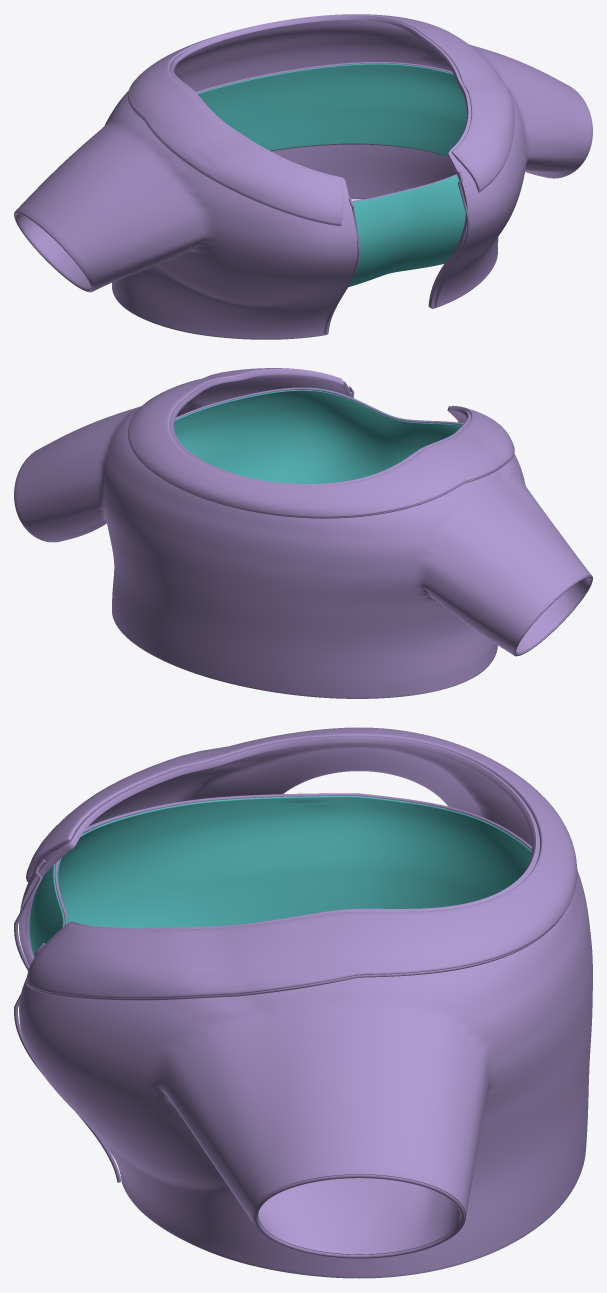
The model's file is Feminine-open-top.glb.
The picture shows the model from 3 angles, top to bottom: view 1: azimuth 30°, elevation 25°; view 2: azimuth 150°, elevation 25°; view 3: azimuth 270°, elevation 25°; orthographic projection. The views are drawn at different scales.
Visible parts, largest first — view 1: Clothing / open, Clothing / Bandeau underlayer, Open shirt / continuous falling collar, Bandeau underlayer / bound edge.001 export, Sleeve / soft cuff -1 export, Open shirt / placket 1 export, Collar / folded edge export, Open shirt / placket -1 export; view 2: Clothing / open, Clothing / Bandeau underlayer, Open shirt / continuous falling collar, Bandeau underlayer / bound edge.001 export, Collar / folded edge export, Sleeve / soft cuff -1 export; view 3: Clothing / open, Clothing / Bandeau underlayer, Open shirt / continuous falling collar, Sleeve / soft cuff 1 export, Bandeau underlayer / bound edge.001 export, Collar / folded edge export.
Part boxes in pixels (box(x1,y1,x2,y2)): Clothing / open: box(14, 16, 592, 339); Clothing / Bandeau underlayer: box(197, 63, 466, 286); Open shirt / continuous falling collar: box(128, 14, 514, 225); Bandeau underlayer / bound edge.001 export: box(196, 62, 456, 201); Sleeve / soft cuff -1 export: box(14, 211, 92, 292); Open shirt / placket 1 export: box(434, 171, 469, 307); Collar / folded edge export: box(128, 94, 502, 226); Open shirt / placket -1 export: box(324, 198, 360, 334); Clothing / open: box(14, 370, 592, 698); Clothing / Bandeau underlayer: box(174, 387, 464, 483); Open shirt / continuous falling collar: box(128, 368, 514, 517); Bandeau underlayer / bound edge.001 export: box(175, 387, 464, 425); Collar / folded edge export: box(128, 430, 513, 518); Sleeve / soft cuff -1 export: box(513, 575, 592, 655); Clothing / open: box(19, 736, 592, 1278); Clothing / Bandeau underlayer: box(29, 796, 531, 957); Open shirt / continuous falling collar: box(26, 727, 577, 998); Sleeve / soft cuff 1 export: box(253, 1174, 465, 1258); Bandeau underlayer / bound edge.001 export: box(54, 793, 532, 925); Collar / folded edge export: box(26, 879, 561, 1000).
Size of the model in its own units: 0.9346 by 0.3421 by 0.5582.
